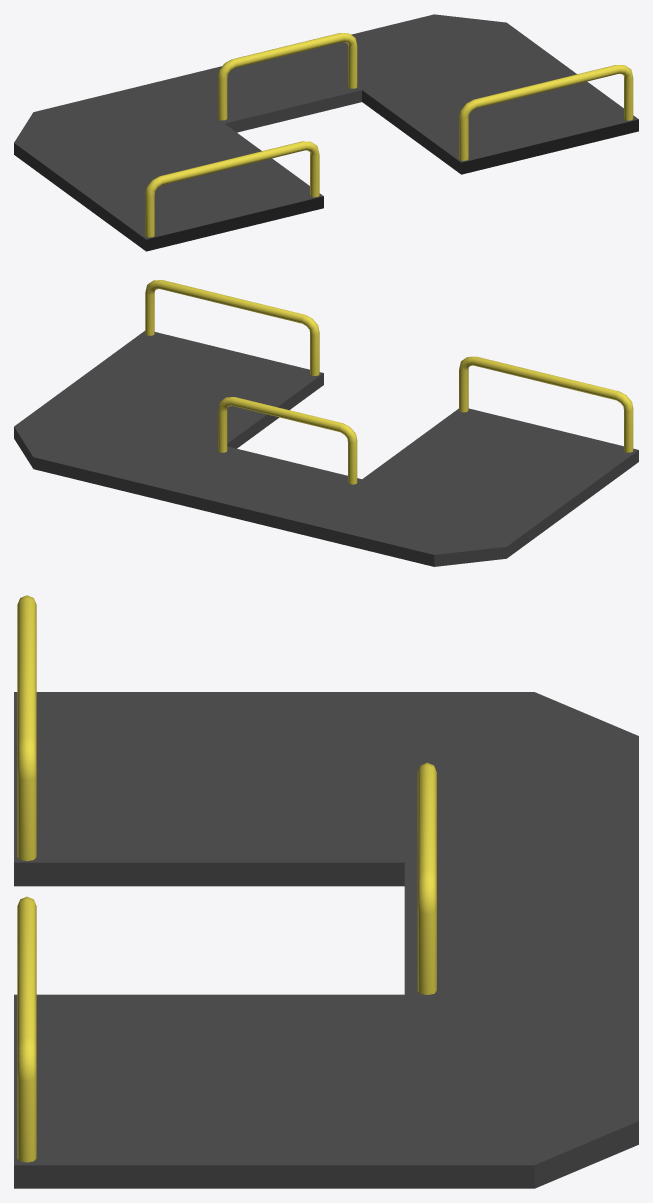
The model's file is Platform_02.fbx.
The picture shows the model from 3 angles, top to bottom: view 1: azimuth 30°, elevation 25°; view 2: azimuth 150°, elevation 25°; view 3: azimuth 270°, elevation 25°; orthographic projection. The views are drawn at different scales.
Visible parts, largest first — view 1: Platform_02; view 2: Platform_02; view 3: Platform_02.
Part boxes in pixels (x1,y1,x2,y2): Platform_02: (14, 14, 638, 251); Platform_02: (14, 280, 638, 566); Platform_02: (14, 595, 638, 1188).
Bounding box in the file's own units: 8.6 × 1.14 × 4.8.
